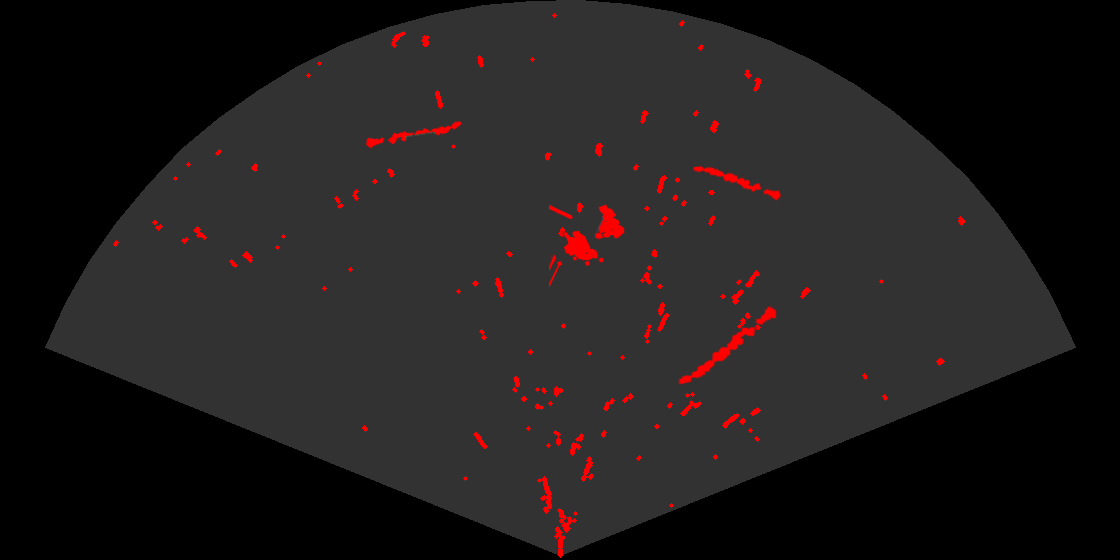cage: (549, 203, 626, 287)
chain: (677, 305, 778, 386), (691, 164, 783, 202), (363, 120, 463, 150)
